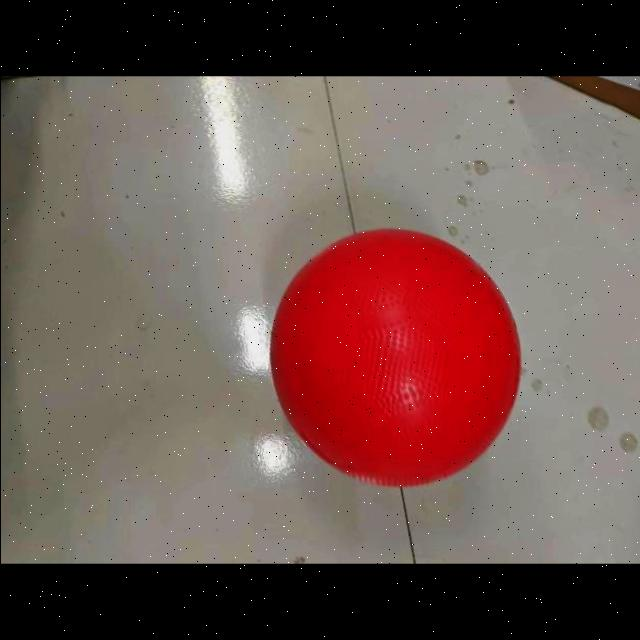R: (268, 221, 530, 495)
